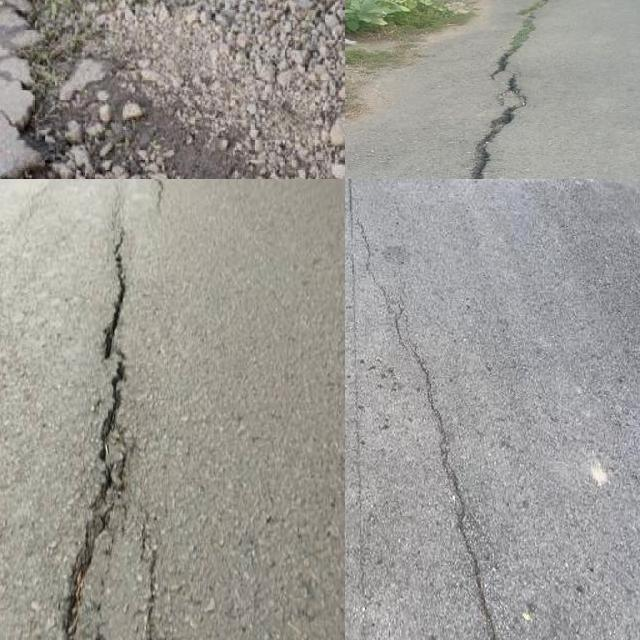Memanjang: (345, 179, 519, 640), (51, 206, 141, 640), (433, 0, 578, 179), (133, 512, 178, 640)
Pinggir: (0, 0, 315, 179)
